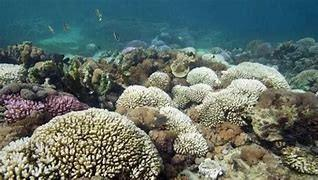bleached_corals: (0, 109, 162, 180), (191, 62, 272, 146), (113, 80, 174, 115), (221, 63, 290, 89), (170, 76, 216, 111), (160, 108, 196, 134), (184, 77, 214, 107), (174, 134, 209, 156), (196, 155, 226, 180), (187, 66, 220, 87)
